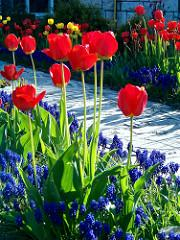tulip: (117, 83, 148, 119), (12, 83, 45, 112), (66, 42, 98, 70), (89, 30, 118, 58), (43, 32, 72, 60), (47, 62, 71, 86), (1, 63, 24, 83), (19, 35, 37, 53), (3, 33, 18, 52)
